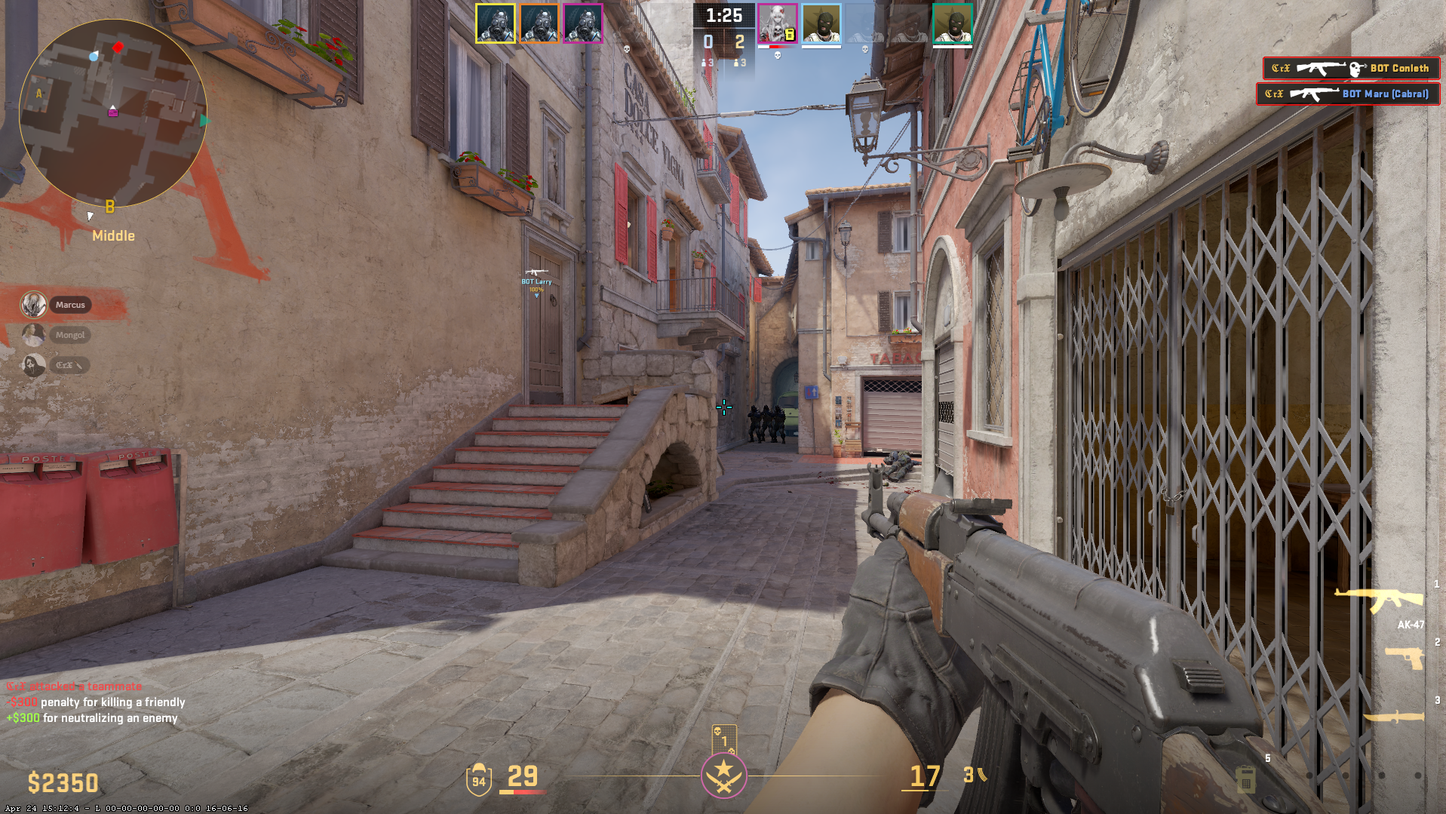CT: (747, 405, 761, 443), (773, 405, 786, 443), (761, 405, 773, 442)
